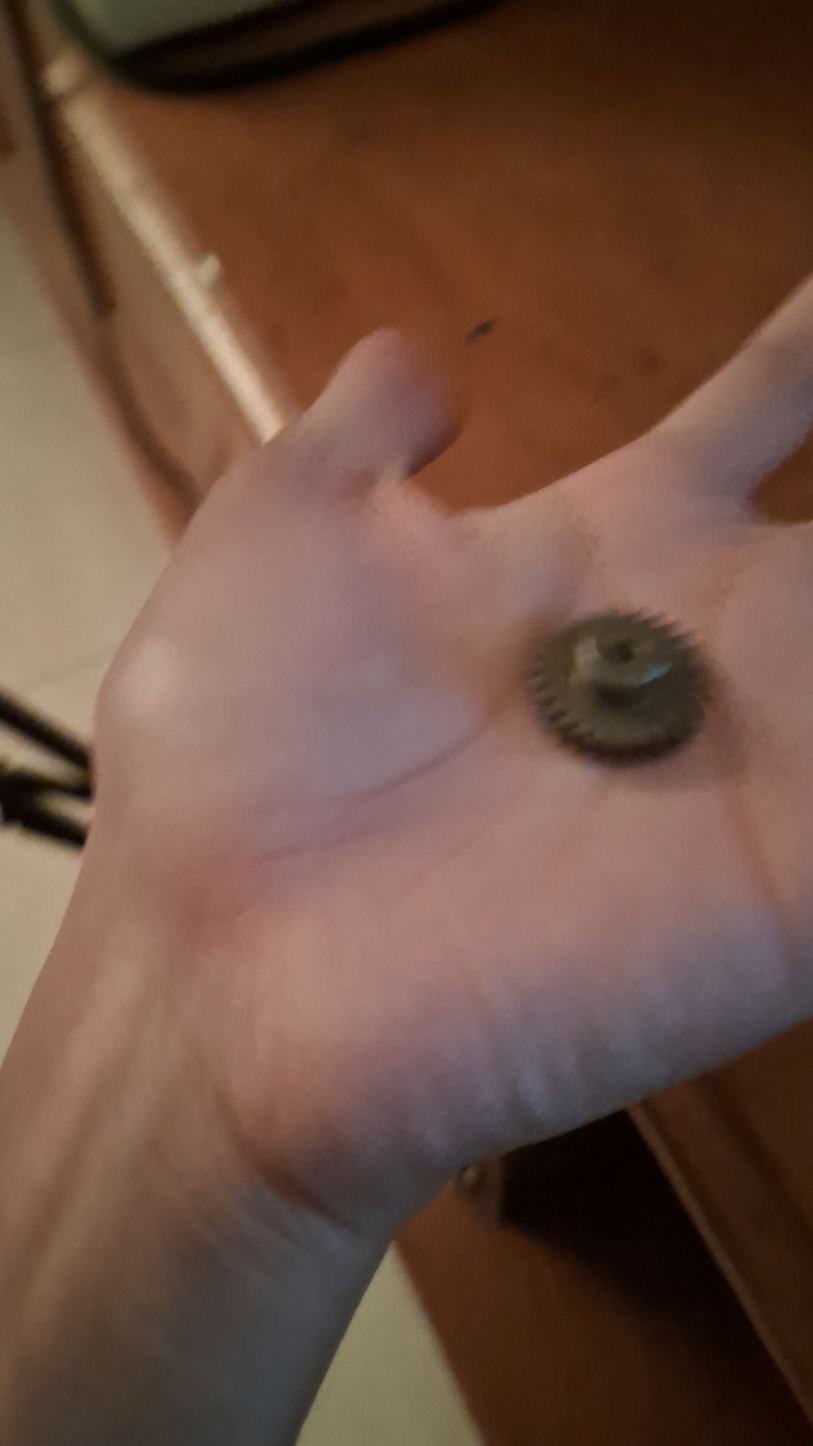spur gear: (528, 610, 706, 764)
